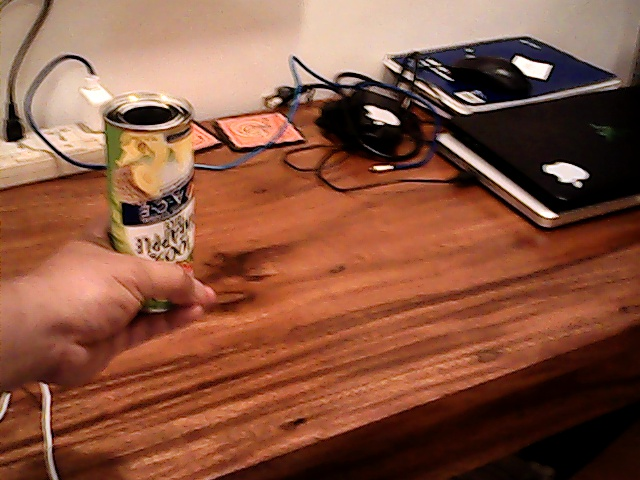Pine Juice: (94, 95, 208, 292)
